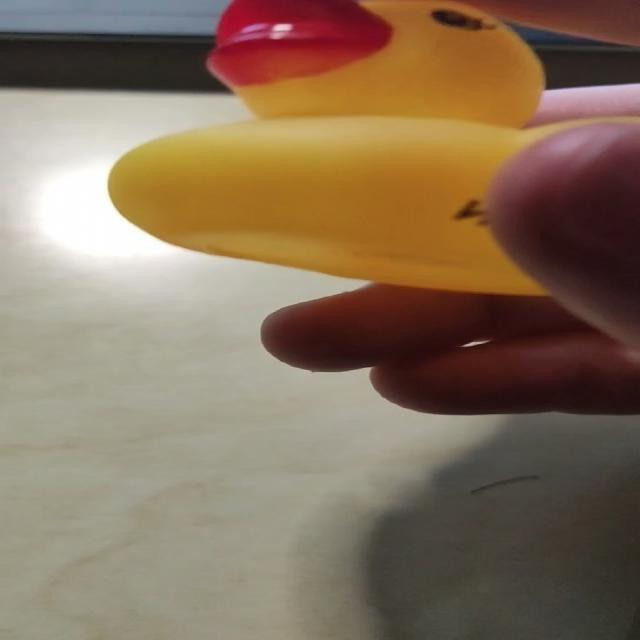rubber-duck: (108, 0, 638, 293), (550, 2, 638, 42)
